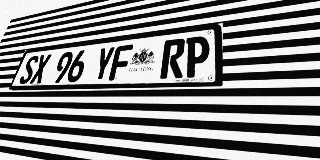6: (65, 49, 89, 82)
9: (51, 51, 75, 83)
F: (108, 44, 133, 81)
P: (183, 35, 210, 78)
R: (160, 38, 186, 79)
S: (18, 55, 40, 84)
X: (29, 54, 52, 84)
Y: (91, 46, 116, 81)
